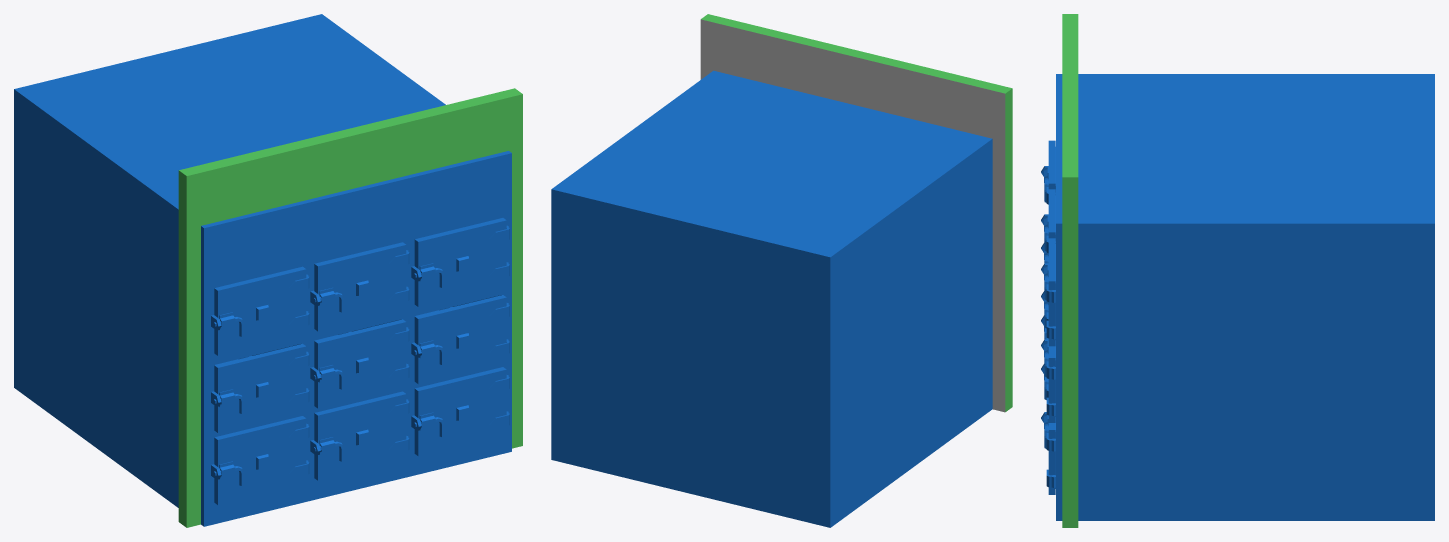
The model's file is Ph_refinger.fbx.
3 views of the same model, side by side, from view 1: azimuth 30°, elevation 25°; view 2: azimuth 150°, elevation 25°; view 3: azimuth 270°, elevation 25° (orthographic). The views are drawn at different scales.
Visible parts, largest first — view 1: Boole, Cylinder_44, Cylinder_47, Cylinder_43, Cylinder_46, Cylinder_49, Cylinder_42, Cylinder_45, Cylinder_48, Cylinder_41; view 2: Boole; view 3: Boole, Cylinder_48, Cylinder_45, Cylinder_41, Cylinder_49, Cylinder_47.
Part boxes in pixels (x1=…): Boole: x1=14, y1=14, x2=522, y2=527; Cylinder_44: x1=313, y1=319, x2=409, y2=408; Cylinder_47: x1=313, y1=242, x2=409, y2=331; Cylinder_43: x1=313, y1=391, x2=409, y2=480; Cylinder_46: x1=213, y1=343, x2=309, y2=432; Cylinder_49: x1=213, y1=266, x2=309, y2=355; Cylinder_42: x1=213, y1=416, x2=309, y2=504; Cylinder_45: x1=413, y1=295, x2=509, y2=384; Cylinder_48: x1=413, y1=218, x2=509, y2=306; Cylinder_41: x1=413, y1=367, x2=509, y2=456; Boole: x1=551, y1=14, x2=1012, y2=527; Boole: x1=1041, y1=14, x2=1434, y2=527; Cylinder_48: x1=1044, y1=238, x2=1055, y2=346; Cylinder_45: x1=1044, y1=340, x2=1055, y2=422; Cylinder_41: x1=1044, y1=415, x2=1055, y2=494; Cylinder_49: x1=1044, y1=140, x2=1055, y2=204; Cylinder_47: x1=1044, y1=189, x2=1055, y2=253.
Bounding box in the file's own units: 250 × 250 × 254.
